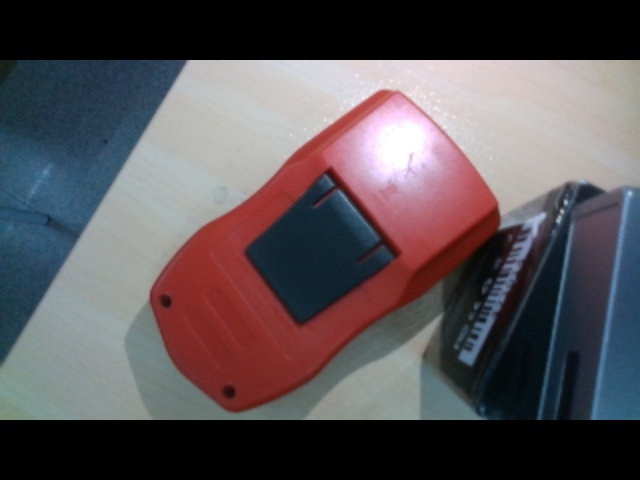Multimeter: (155, 84, 503, 413)
